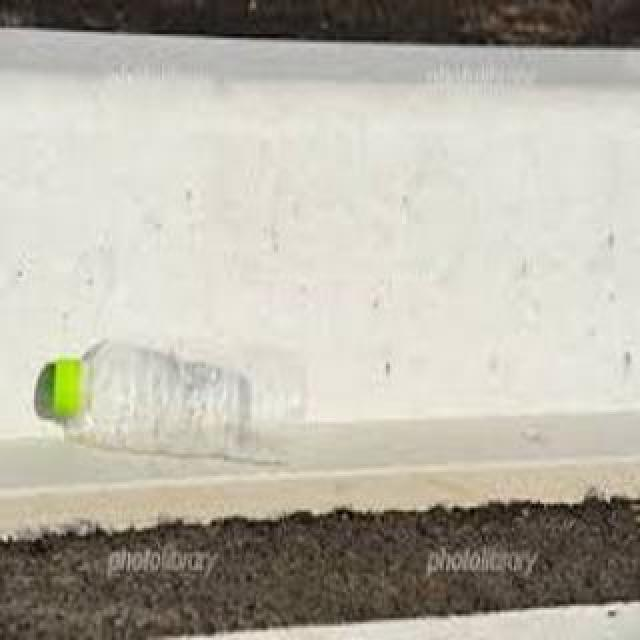Pet_Bottle: (49, 339, 301, 469)
